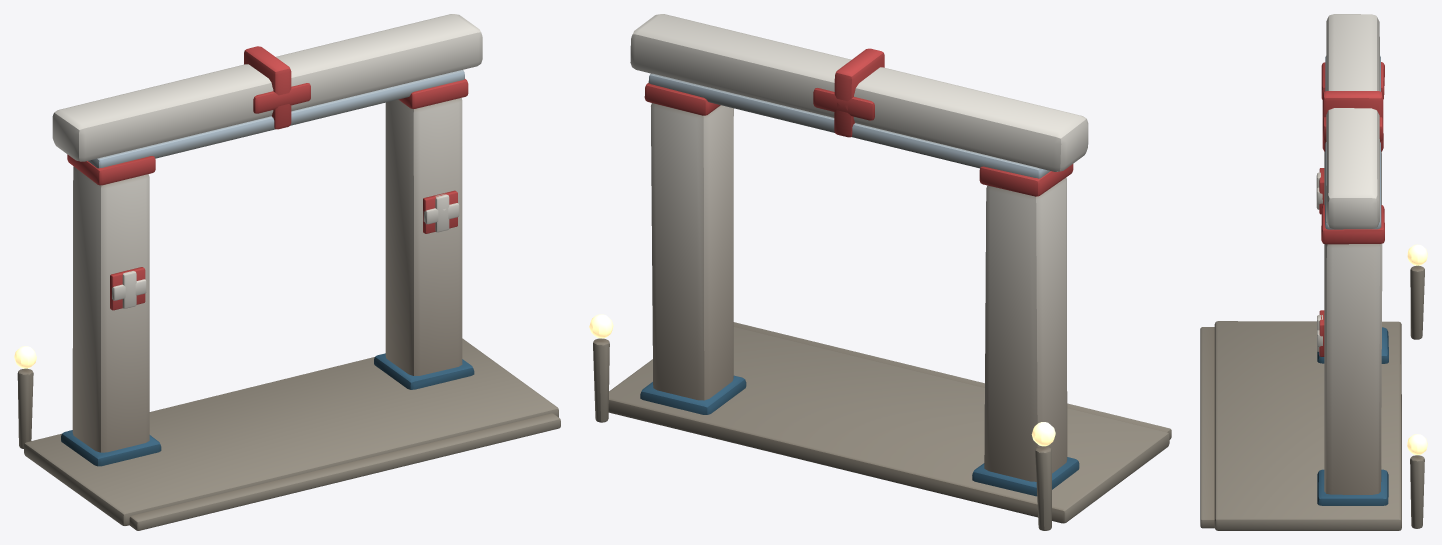
The picture shows the model from 3 angles, left to right: view 1: azimuth 30°, elevation 25°; view 2: azimuth 150°, elevation 25°; view 3: azimuth 270°, elevation 25°; orthographic projection. The views are drawn at different scales.
Visible parts, largest first — view 1: gate_8177ca62; view 2: gate_8177ca62; view 3: gate_8177ca62.
Boxes of the visible parts, box(x1,y1,x2,y2) form: gate_8177ca62: box(14, 14, 560, 530); gate_8177ca62: box(589, 14, 1171, 530); gate_8177ca62: box(1200, 14, 1427, 530).
Size of the model in its own units: 5.28 by 4.2 by 2.55.
